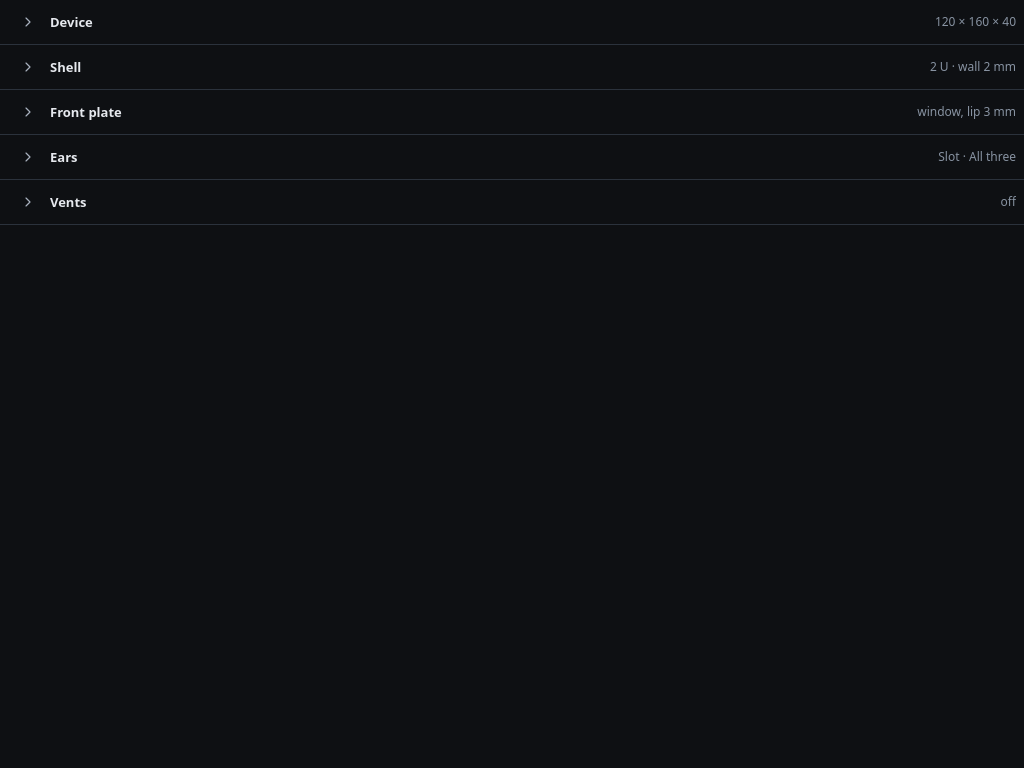
CasePanel › поля зависят от выбора: окно, соты
What coordinates should you click on to do the following:
click the button named "Expand: Front plate"
I would click on:
 (28, 112)
Its box is [12,96,44,128].
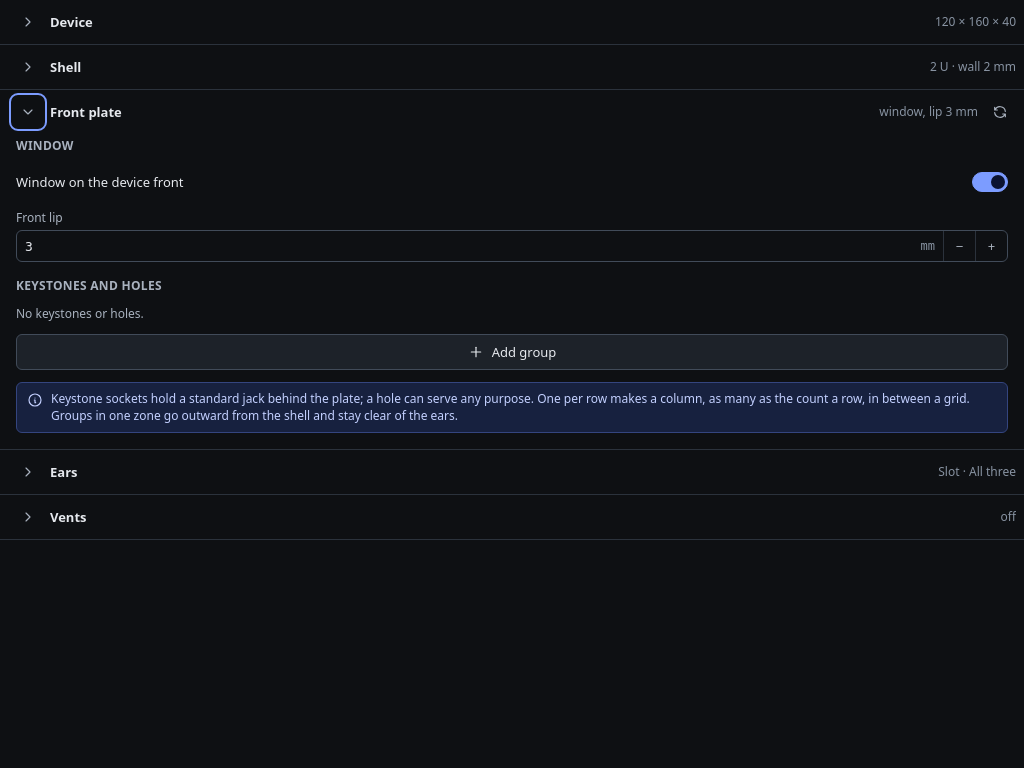
Expected: the field labelled "Front lip" is shown, [17,231,920,261]
What coordinates should you click on to do the following:
click the switch named "Window on the device front"
I would click on:
 (990, 182)
Its box is [972,172,1008,192].
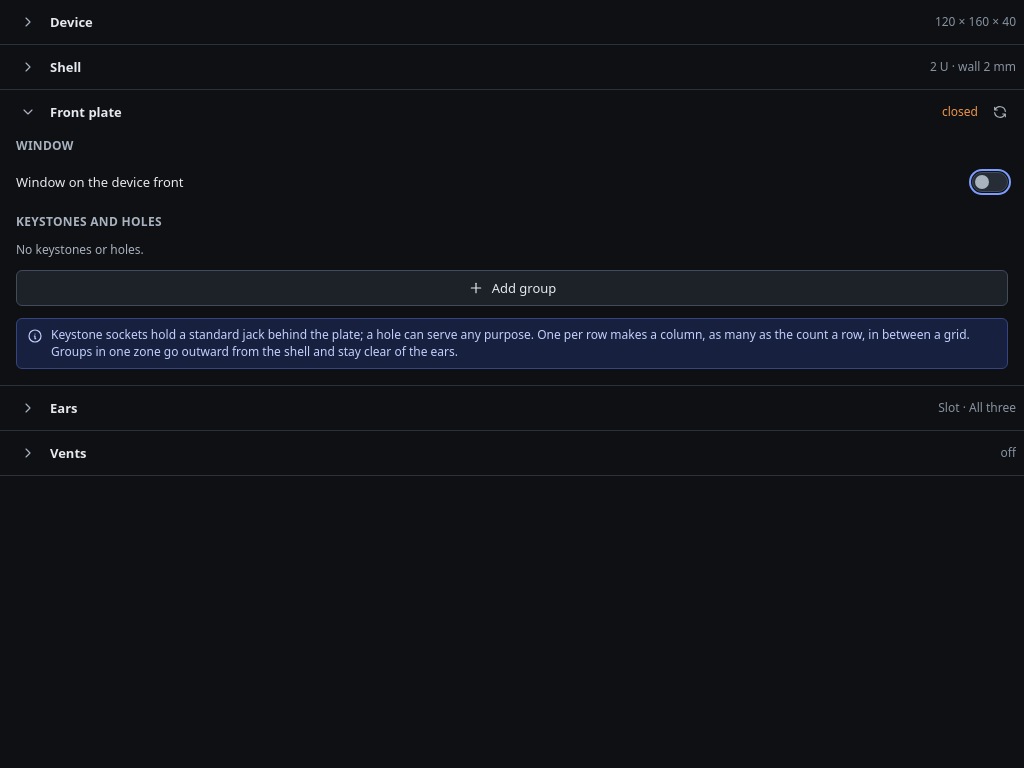
Expected: the label labelled "Front lip" is gone
What coordinates should you click on to do the following:
click the button named "Expand: Vents"
I would click on:
 (28, 453)
Its box is [12,437,44,469].
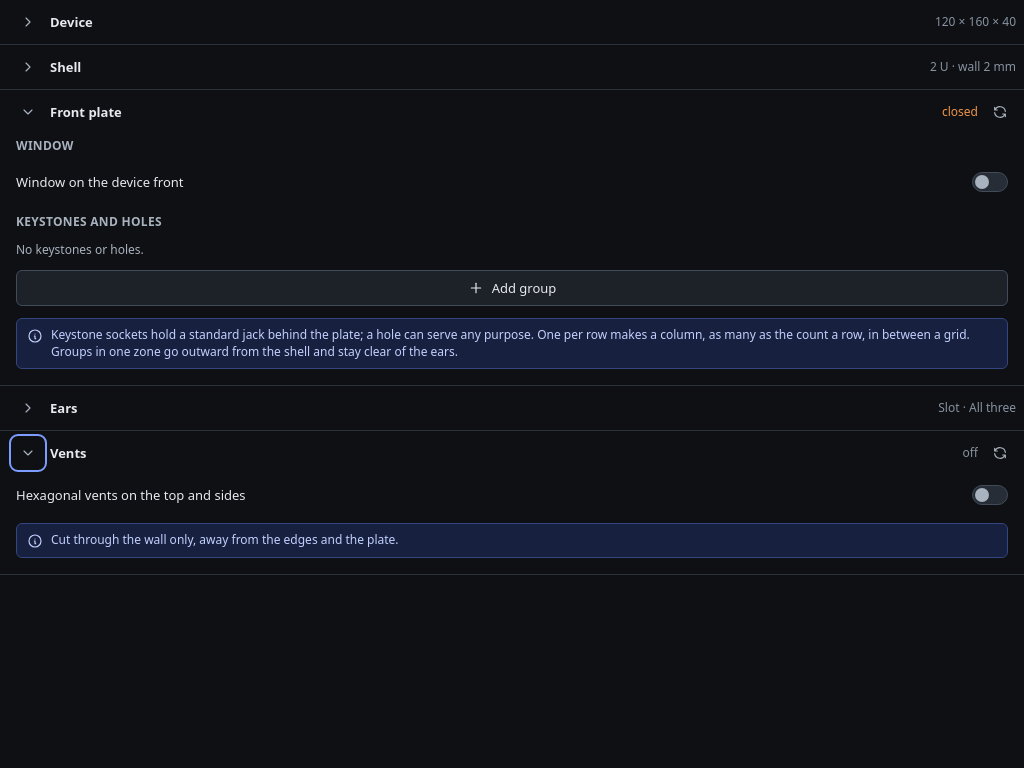
Expected: the field labelled "Vent width" is not shown
What coordinates should you click on to do the following:
click the switch named "Hexagonal vents on the top and sides" in the row of "Hexagonal vents on the top and sides"
I would click on:
 (990, 495)
Its box is [972,485,1008,505].
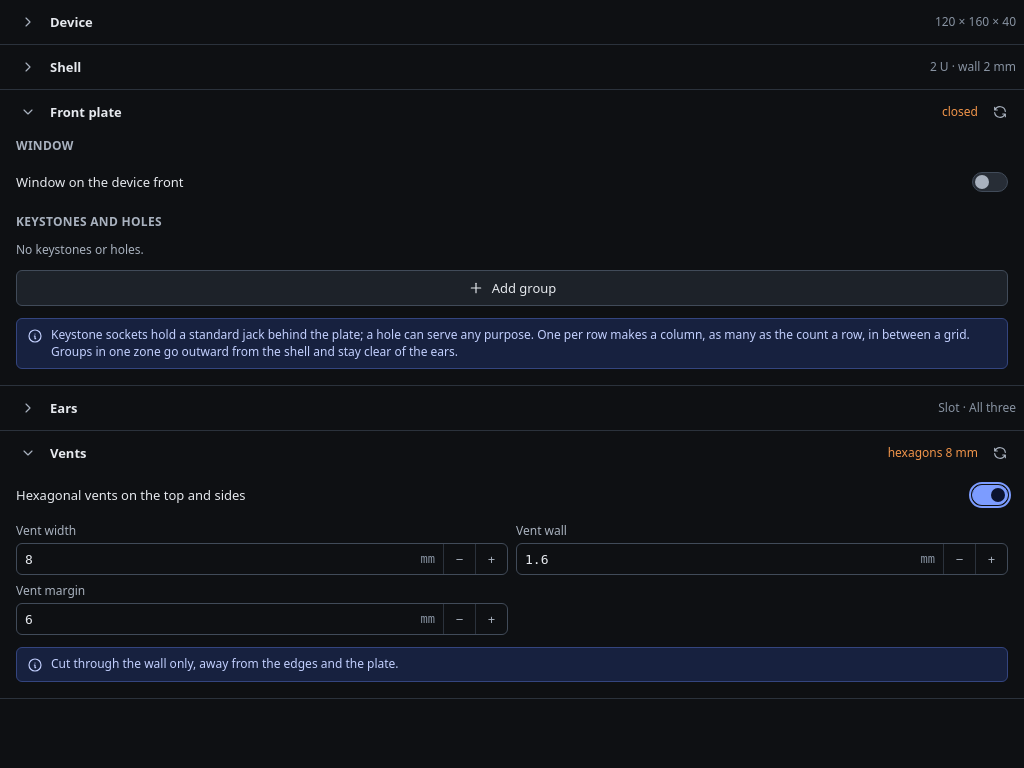
Expected: the field labelled "Vent width" is shown, [17,544,420,574]
